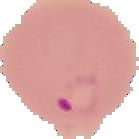parasitized: (51, 59, 101, 121)
